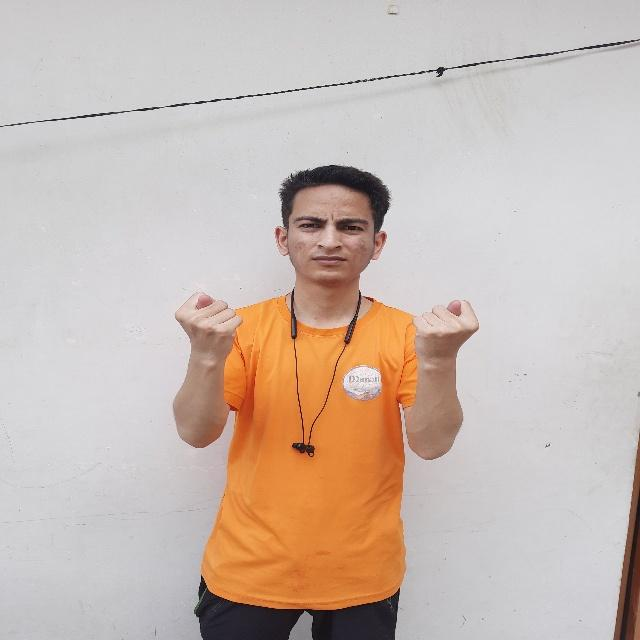Dulya: (402, 290, 486, 374), (168, 282, 248, 364)
